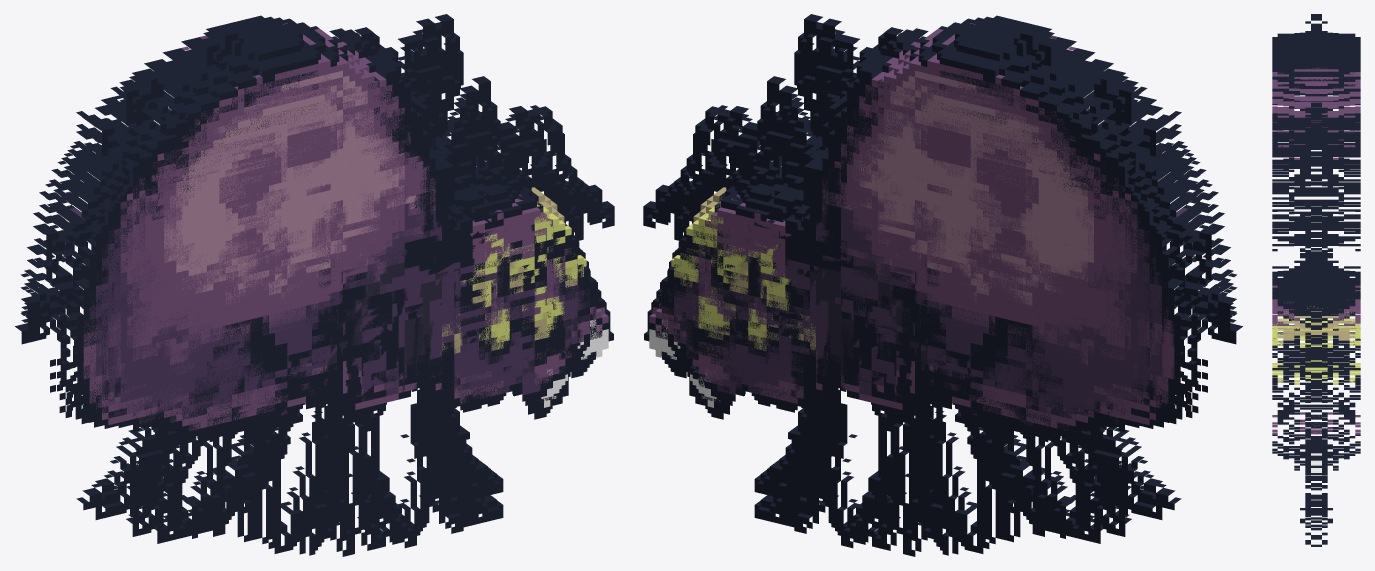
File: aranha_andando.glb
3 renders of one model, left to right at view 1: azimuth 30°, elevation 25°; view 2: azimuth 150°, elevation 25°; view 3: azimuth 270°, elevation 25°, orthographic. The views are drawn at different scales.
Parts seen in each view (by area): view 1: q0, q2, q1, q4, q3; view 2: q0, q1, q2, q4, q3; view 3: q2, q3, q4, q1, q0.
Boxes of the visible parts, <box> form: q0: <box>20,24,602,553</box>; q2: <box>45,15,602,548</box>; q1: <box>15,36,613,555</box>; q4: <box>21,22,596,556</box>; q3: <box>33,14,614,550</box>; q0: <box>655,24,1237,553</box>; q1: <box>644,36,1242,555</box>; q2: <box>655,15,1212,548</box>; q4: <box>661,22,1236,556</box>; q3: <box>643,14,1224,550</box>; q2: <box>1272,18,1360,513</box>; q3: <box>1272,23,1360,526</box>; q4: <box>1272,14,1360,546</box>; q1: <box>1272,74,1360,498</box>; q0: <box>1272,38,1360,535</box>.
Bounding box in the file's own units: 96 × 86 × 16.
Materials: 1 (1 with a texture image).
